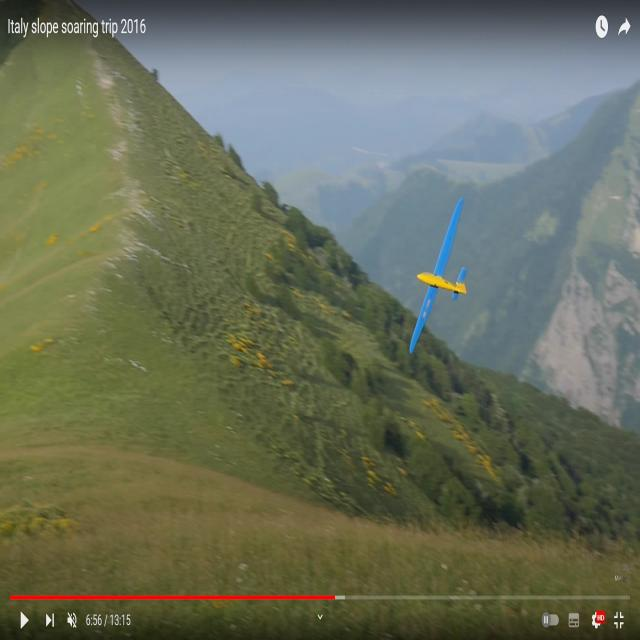iha: (412, 201, 470, 354)
